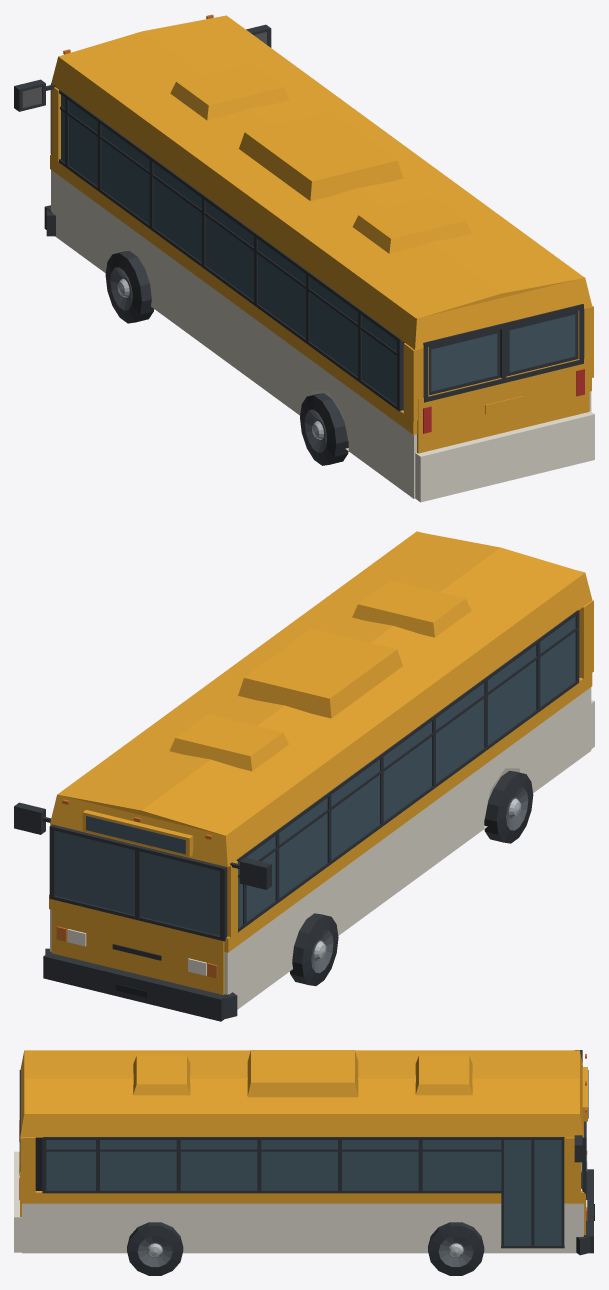
The model's file is ronan's main quest bus.fbx.
3 renders of one model, top to bottom at view 1: azimuth 30°, elevation 25°; view 2: azimuth 150°, elevation 25°; view 3: azimuth 270°, elevation 25°, orthographic. The views are drawn at different scales.
Visible parts, largest first — view 1: Axle_Front, aaaaab, Wheel_RL_Hubcap, Wheel_FL_Hubcap; view 2: Axle_Front, aaaaab, Wheel_RL_Hubcap, Wheel_FL_Hubcap; view 3: Axle_Front, aaaa, Wheel_RR_Hubcap, Wheel_FR_Rim.
Part boxes in pixels (bbox=[...]): Axle_Front: bbox=[14, 14, 594, 502]; aaaaab: bbox=[51, 170, 416, 498]; Wheel_RL_Hubcap: bbox=[300, 393, 348, 465]; Wheel_FL_Hubcap: bbox=[105, 251, 154, 323]; Axle_Front: bbox=[14, 531, 594, 1021]; aaaaab: bbox=[224, 687, 591, 1009]; Wheel_RL_Hubcap: bbox=[484, 770, 533, 843]; Wheel_FL_Hubcap: bbox=[290, 913, 338, 985]; Axle_Front: bbox=[14, 1050, 594, 1255]; aaaa: bbox=[22, 1203, 583, 1253]; Wheel_RR_Hubcap: bbox=[127, 1222, 183, 1275]; Wheel_FR_Rim: bbox=[428, 1222, 484, 1275].
Bounding box in the file's own units: 335 × 283 × 865.
